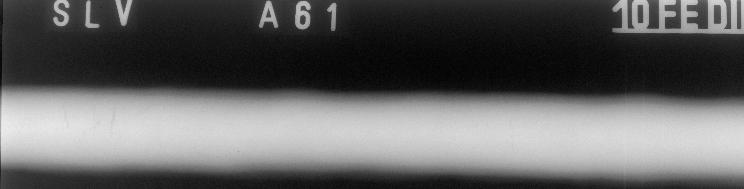TR: (44, 94, 170, 164), (488, 108, 530, 166)
